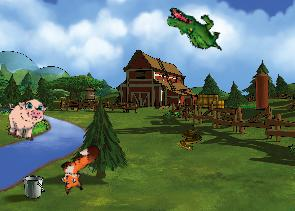crocodile: (162, 6, 227, 52)
fox: (50, 141, 112, 198)
pig: (3, 95, 48, 143)
